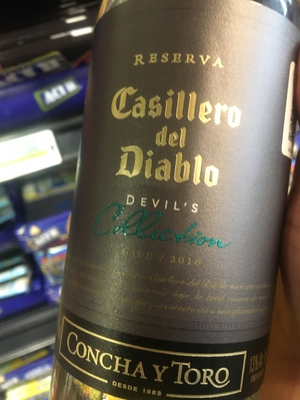casillero del diablo devils collection verde: (53, 2, 296, 400)
